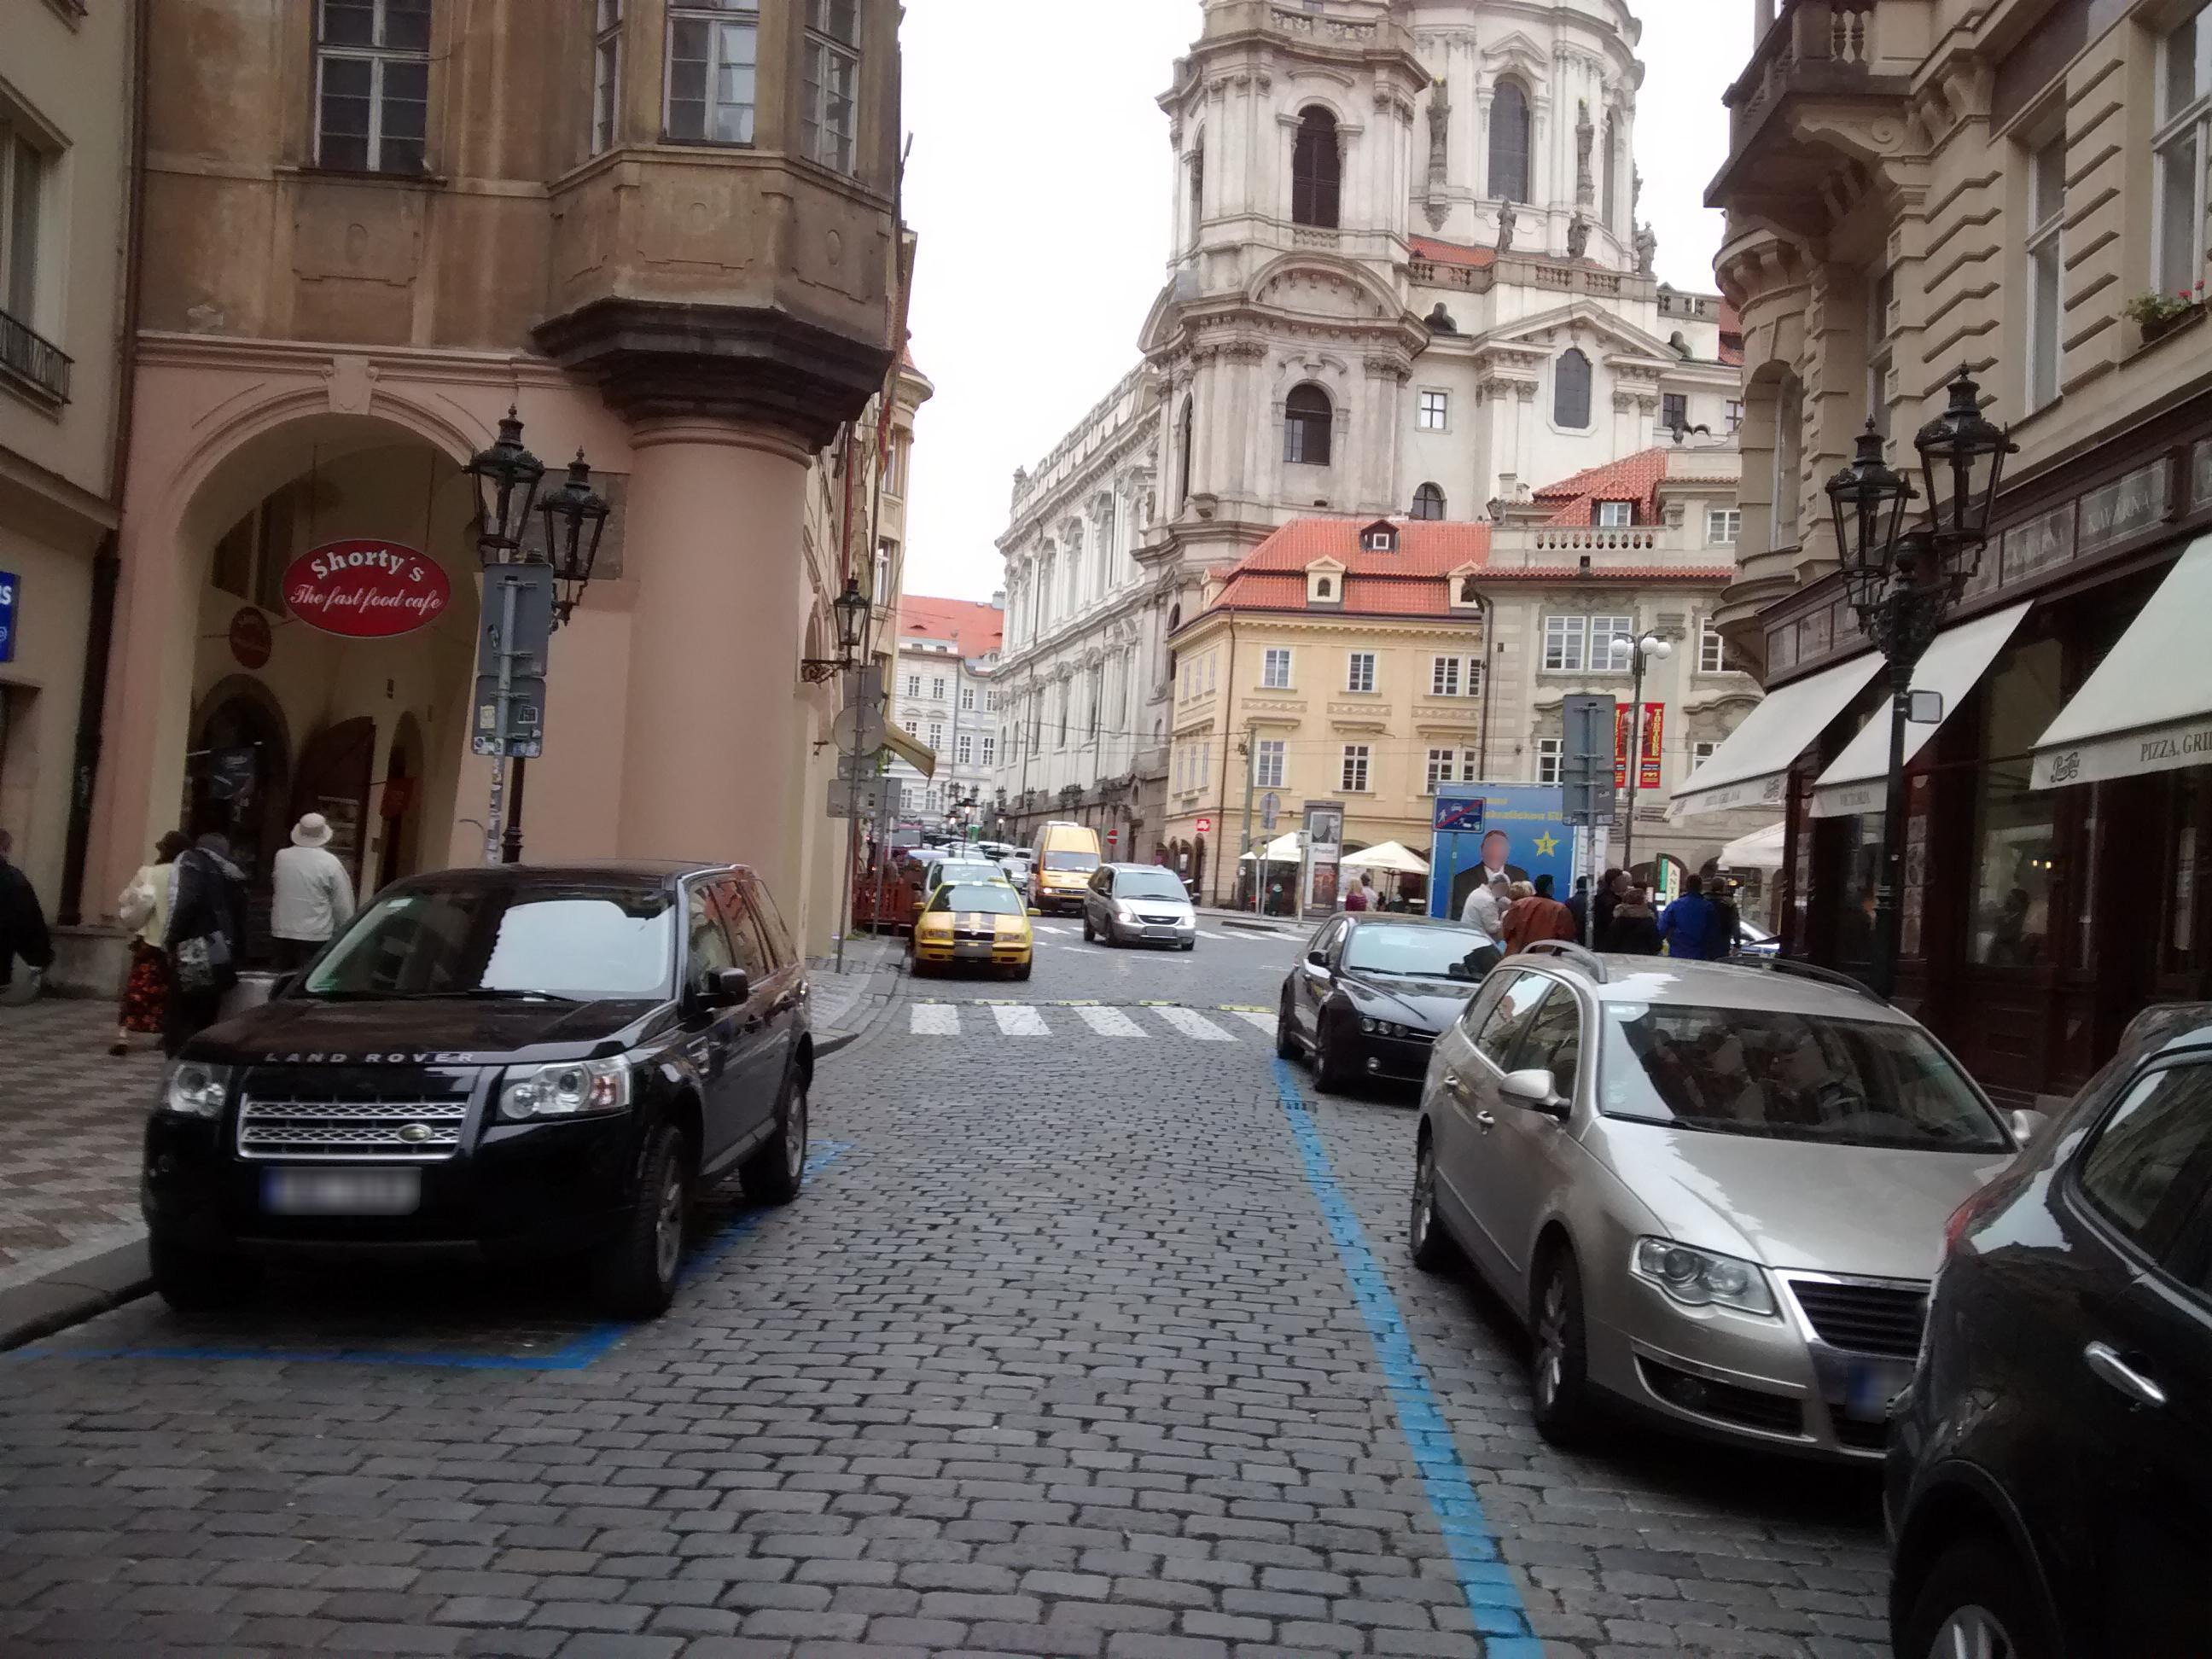vinyl banner: (1425, 765, 1580, 927)
